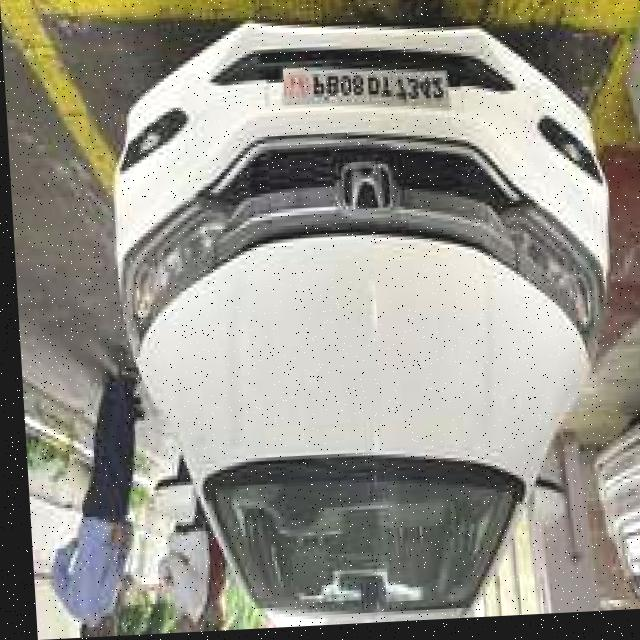plate: (279, 61, 449, 125)
